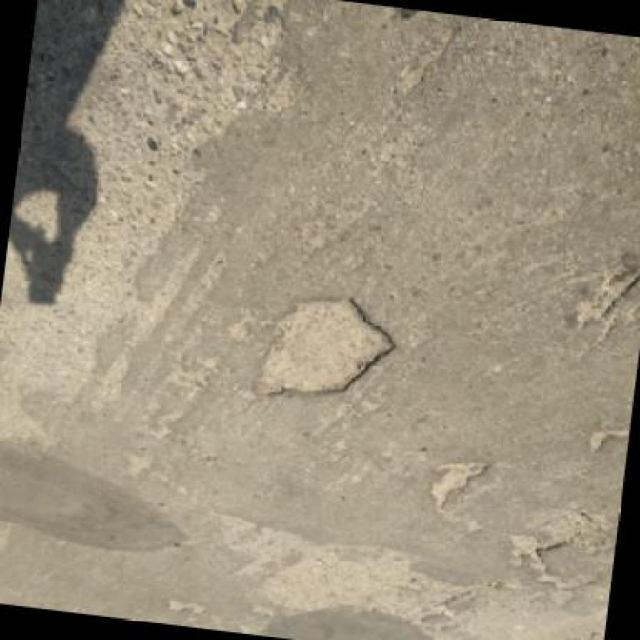pothole1: (244, 284, 402, 419), (570, 262, 638, 338), (424, 451, 491, 515), (500, 526, 566, 574)
